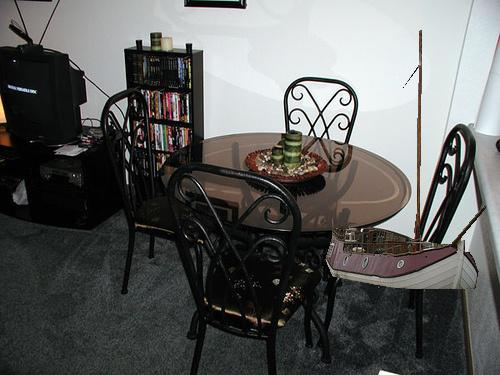tampered: (326, 31, 486, 289)
